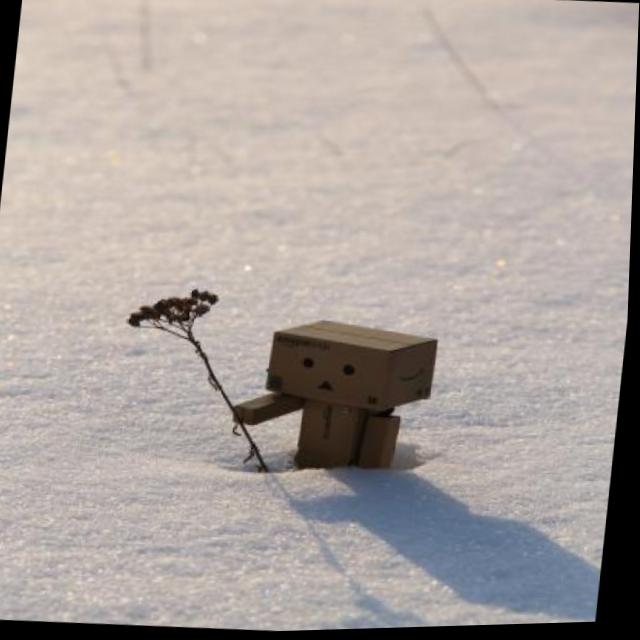box: (208, 295, 463, 531)
